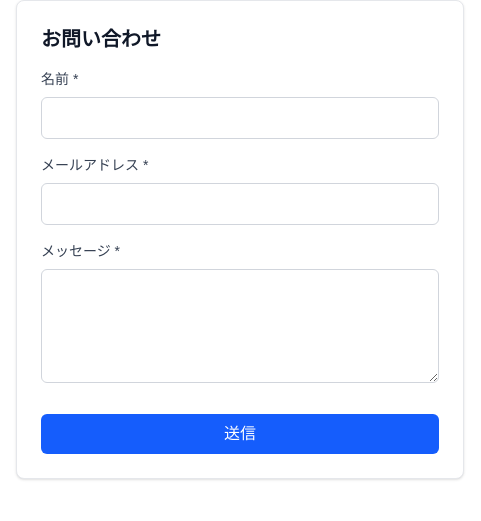
Test case: ContactForm Integration › validates email format
// 名前とメッセージは有効な値を入力し、メールのみ無効な形式を入力
In the field with test id "name-input": (240, 118) [41,97,439,139], type "田中太郎"
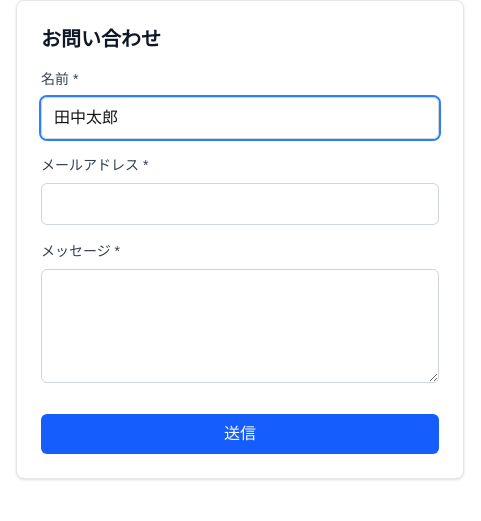
In the field with test id "email-input": (240, 204) [41,183,439,225], type "invalid-email"
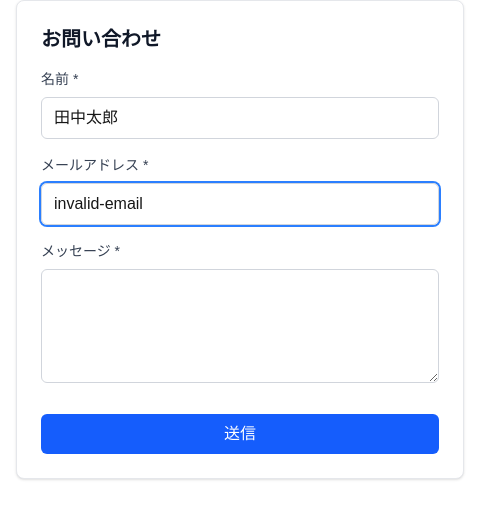
In the text box with test id "message-input": (240, 326) [41,269,439,383], type "これはテストメッセージです。"
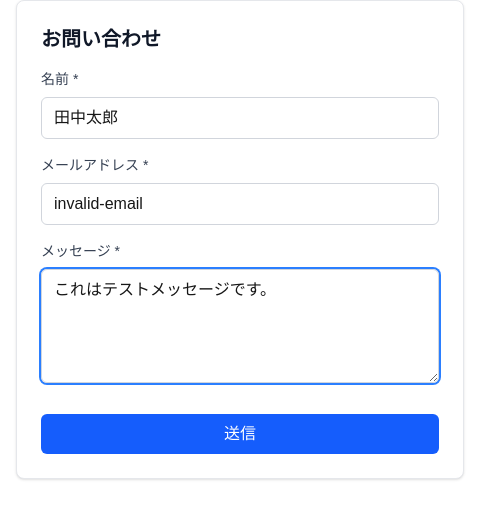
Click the button with test id "submit-button": (240, 434) [41,414,439,454]
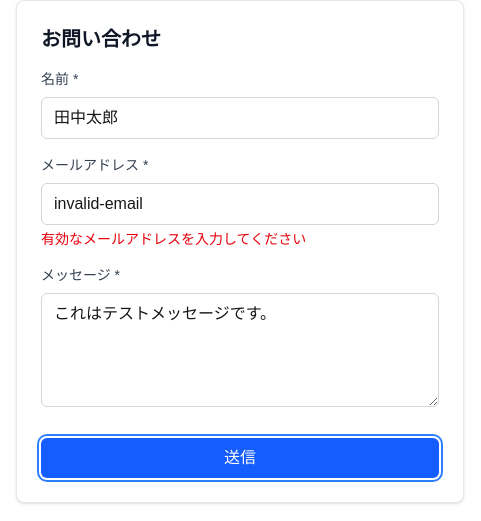
Result: the text with test id "email-error" reads "有効なメールアドレスを入力してください" at [41,231,306,247]
